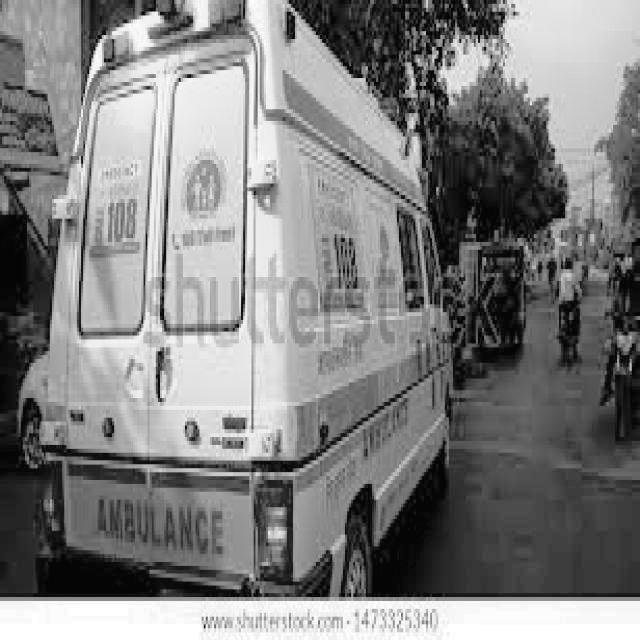LCV: (43, 6, 293, 575)
